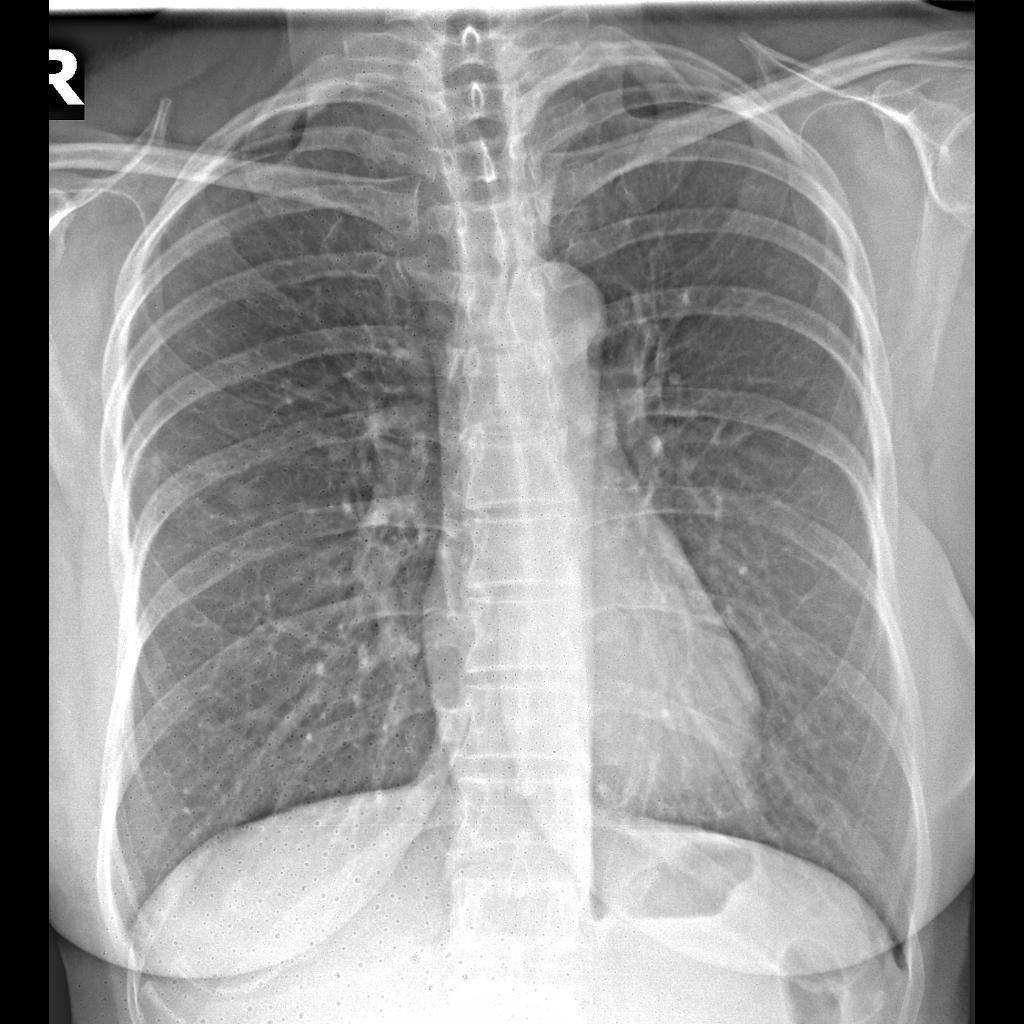Nodule: (205, 466, 285, 535)
